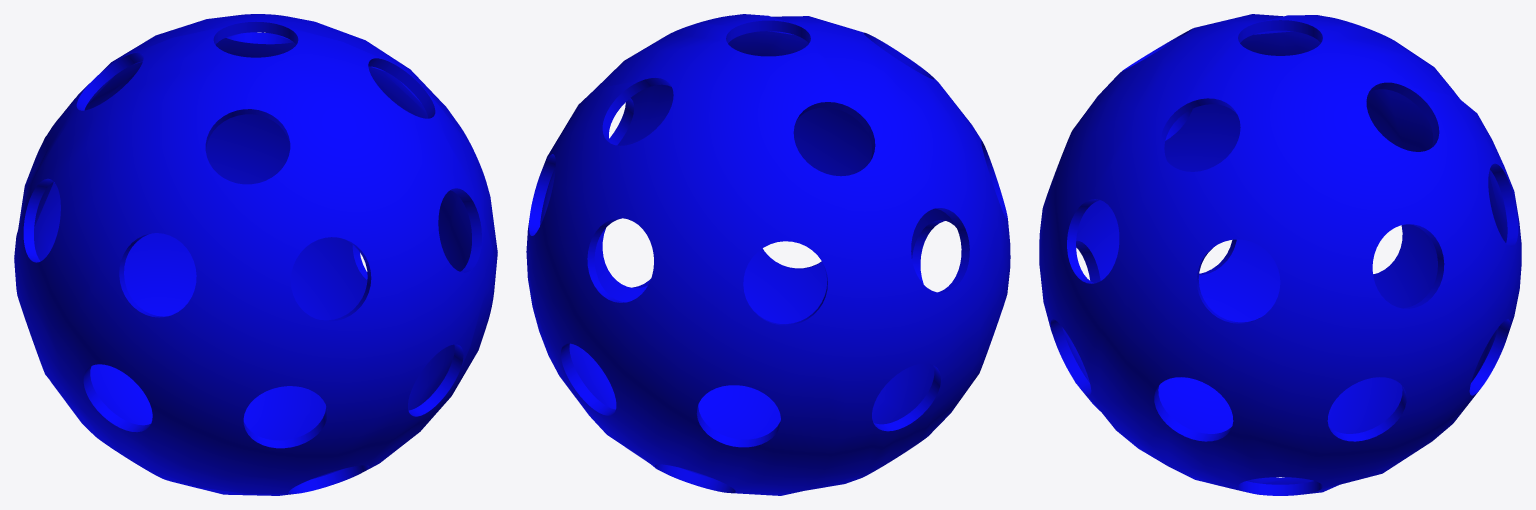
3 views of the same model, side by side, from view 1: azimuth 30°, elevation 25°; view 2: azimuth 150°, elevation 25°; view 3: azimuth 270°, elevation 25° (orthographic).
Parts seen in each view (by area): view 1: am-5852: Blue Nectar; view 2: am-5852: Blue Nectar; view 3: am-5852: Blue Nectar.
Boxes of the visible parts, bbox=[...] form: am-5852: Blue Nectar: bbox=[14, 14, 497, 495]; am-5852: Blue Nectar: bbox=[526, 14, 1010, 495]; am-5852: Blue Nectar: bbox=[1039, 14, 1521, 495].
Size of the model in its own units: 0.0919 by 0.0905 by 0.0916.
